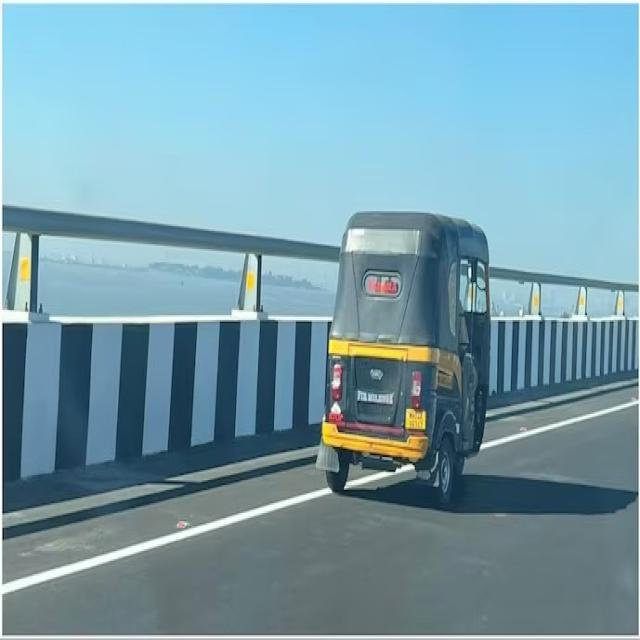autorickshaw: (319, 215, 491, 501)
